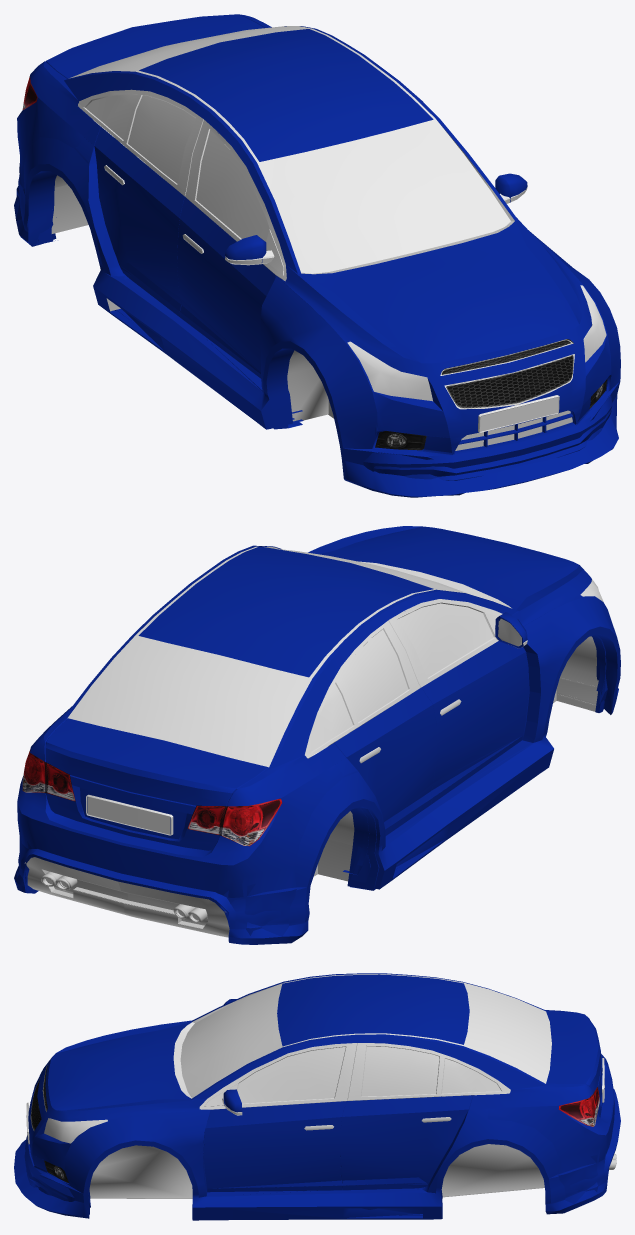
File: Stratum.fbx
3 views of the same model, one above another, from view 1: azimuth 30°, elevation 25°; view 2: azimuth 150°, elevation 25°; view 3: azimuth 270°, elevation 25° (orthographic). The views are drawn at different scales.
Visible parts, largest first — view 1: kit04_body, kit03_body, window, static_objects, kit02_body, kit01_body, radiator, kit04_objects, lights_glass, fog_lights, body; view 2: kit03_body, kit04_body, window, static_objects, kit01_body, kit03_objects, kit02_body, rear_lights, standart_objects, kit01_objects, body, kit04_objects; view 3: kit04_body, kit03_body, window, kit04_objects, static_objects, kit02_body, kit01_body, lights_glass, rear_lights, radiator, body.
Part boxes in pixels (x1=…): kit04_body: x1=14, y1=81, x2=620, y2=497; kit03_body: x1=16, y1=14, x2=608, y2=480; window: x1=69, y1=26, x2=510, y2=273; static_objects: x1=78, y1=28, x2=559, y2=432; kit02_body: x1=16, y1=86, x2=611, y2=476; kit01_body: x1=19, y1=29, x2=612, y2=471; radiator: x1=440, y1=339, x2=574, y2=409; kit04_objects: x1=51, y1=185, x2=572, y2=450; lights_glass: x1=348, y1=285, x2=606, y2=401; fog_lights: x1=375, y1=379, x2=606, y2=450; body: x1=56, y1=26, x2=607, y2=453; kit03_body: x1=16, y1=526, x2=605, y2=936; kit04_body: x1=14, y1=526, x2=620, y2=944; window: x1=67, y1=548, x2=493, y2=767; static_objects: x1=86, y1=546, x2=527, y2=835; kit01_body: x1=19, y1=546, x2=607, y2=897; kit03_objects: x1=24, y1=692, x2=595, y2=937; kit02_body: x1=16, y1=546, x2=606, y2=935; rear_lights: x1=22, y1=749, x2=282, y2=846; standart_objects: x1=45, y1=636, x2=598, y2=889; kit01_objects: x1=53, y1=678, x2=597, y2=922; body: x1=22, y1=546, x2=605, y2=865; kit04_objects: x1=42, y1=873, x2=207, y2=928; kit04_body: x1=14, y1=974, x2=620, y2=1220; kit03_body: x1=26, y1=973, x2=620, y2=1218; window: x1=180, y1=982, x2=551, y2=1103; kit04_objects: x1=89, y1=1144, x2=616, y2=1198; static_objects: x1=26, y1=974, x2=604, y2=1144; kit02_body: x1=24, y1=975, x2=599, y2=1201; kit01_body: x1=25, y1=974, x2=614, y2=1207; lights_glass: x1=44, y1=1118, x2=107, y2=1143; rear_lights: x1=558, y1=1087, x2=599, y2=1126; radiator: x1=30, y1=1065, x2=47, y2=1130; body: x1=30, y1=974, x2=596, y2=1198.
Size of the model in its own units: 1.98 by 1.48 by 4.71.
6 materials, 4 textured.
